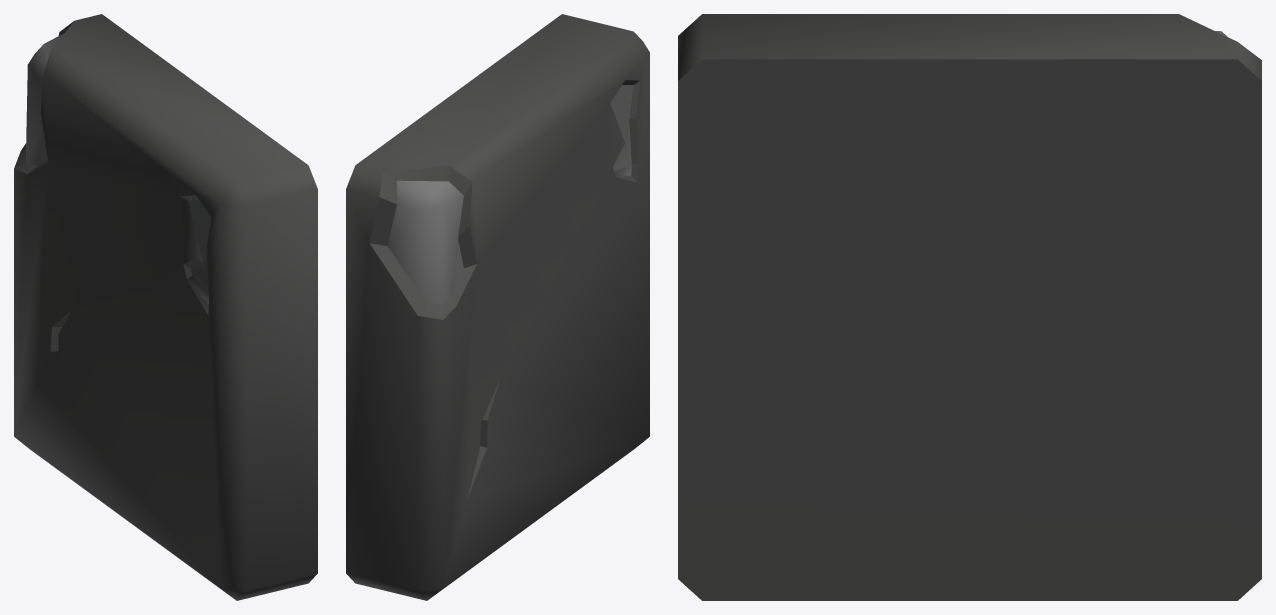
Rendered from Table_1_4.glb.
3 renders of one model, left to right at view 1: azimuth 30°, elevation 25°; view 2: azimuth 150°, elevation 25°; view 3: azimuth 270°, elevation 25°, orthographic. The views are drawn at different scales.
Visible parts, largest first — view 1: Table_1_4; view 2: Table_1_4; view 3: Table_1_4.
Part boxes in pixels (x1=…): Table_1_4: x1=14, y1=14, x2=317, y2=600; Table_1_4: x1=346, y1=14, x2=649, y2=600; Table_1_4: x1=678, y1=14, x2=1261, y2=600.
Bounding box in the file's own units: 0.0894 × 0.4067 × 0.3972.
Materials: 1 (1 with a texture image).
